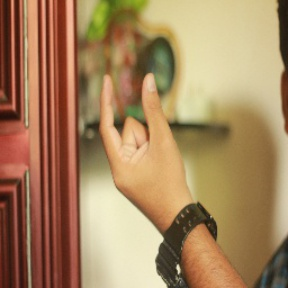U: (91, 65, 195, 212)
